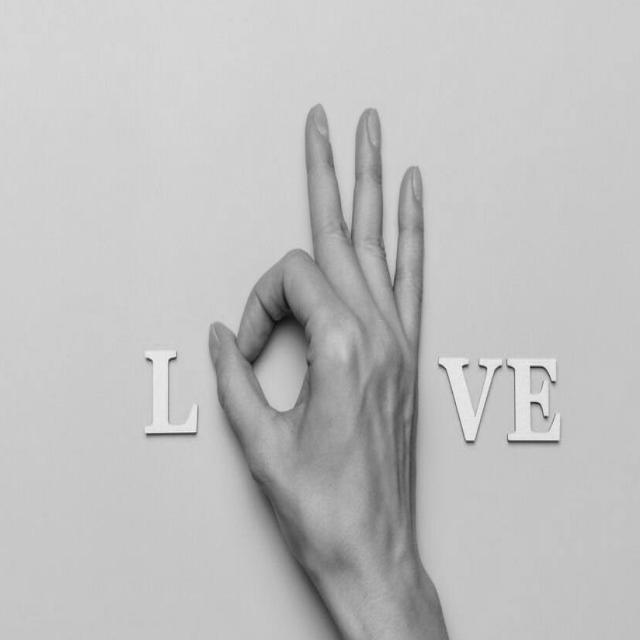perfect: (205, 92, 431, 590)
